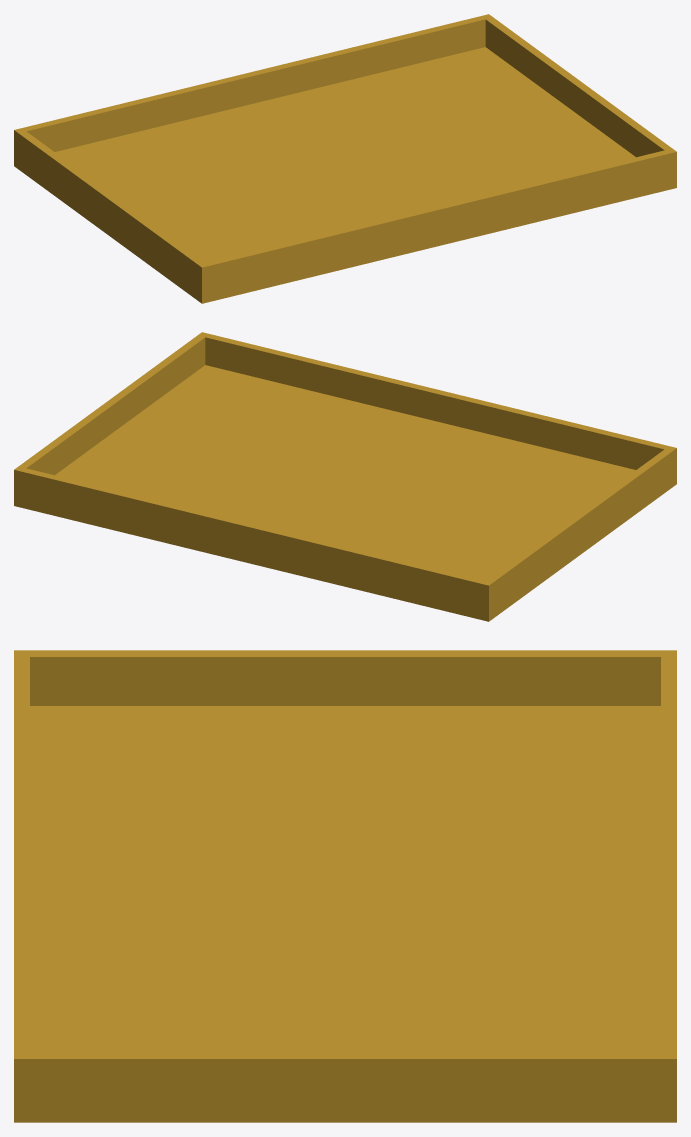
The model's file is SM_metal_plate_01.fbx.
3 renders of one model, top to bottom at view 1: azimuth 30°, elevation 25°; view 2: azimuth 150°, elevation 25°; view 3: azimuth 270°, elevation 25°, orthographic. The views are drawn at different scales.
Parts seen in each view (by area): view 1: Box479; view 2: Box479; view 3: Box479.
Part boxes in pixels (box(x1,y1,x2,y2)): Box479: box(14, 14, 676, 303); Box479: box(14, 332, 676, 621); Box479: box(14, 650, 676, 1122).
Size of the model in its own units: 32.2 by 2.35 by 22.08.
